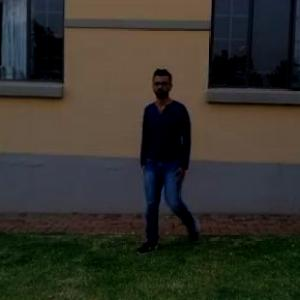follow: (140, 70, 193, 248)
